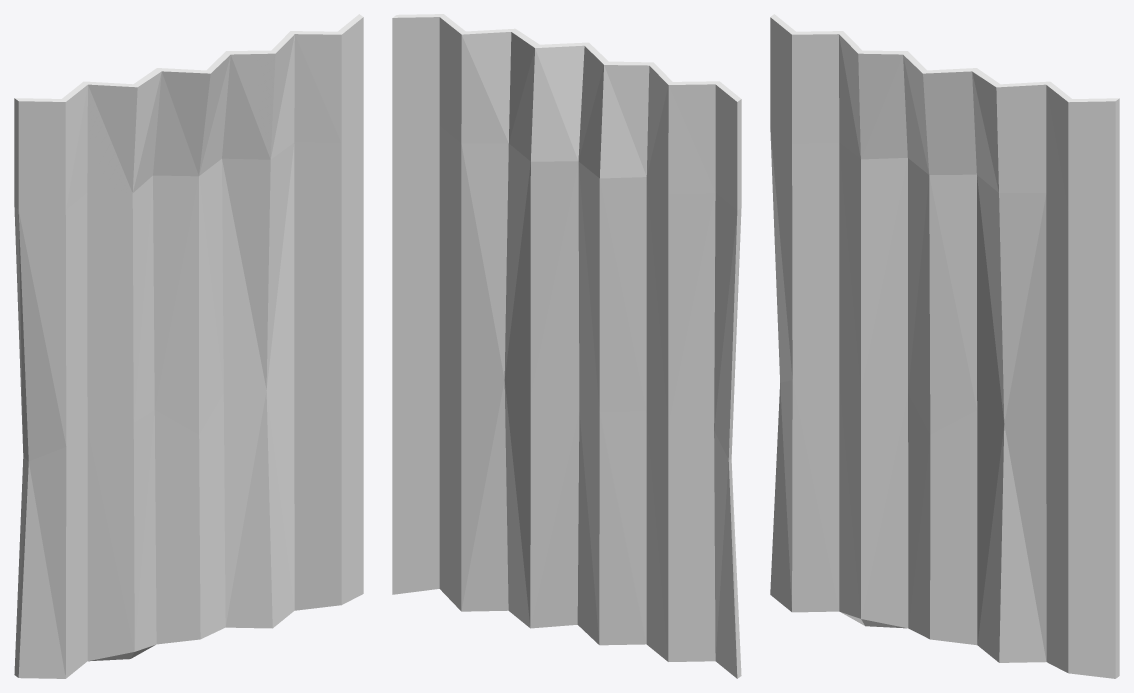
File: Prop_Metal_Sheet_02.glb
3 views of the same model, side by side, from view 1: azimuth 30°, elevation 25°; view 2: azimuth 150°, elevation 25°; view 3: azimuth 330°, elevation 25° (orthographic).
Visible parts, largest first — view 1: Prop_Metal_Sheet_02; view 2: Prop_Metal_Sheet_02; view 3: Prop_Metal_Sheet_02.
Part boxes in pixels (x1,y1,x2,y2): Prop_Metal_Sheet_02: (14,14,363,678); Prop_Metal_Sheet_02: (392,14,741,678); Prop_Metal_Sheet_02: (770,14,1119,678).
Bounding box in the file's own units: 1.07 × 1.7 × 0.1357.
Materials: 1 (1 with a texture image).
